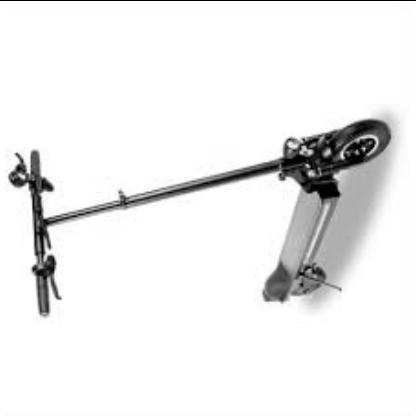bike: (6, 119, 393, 312)
